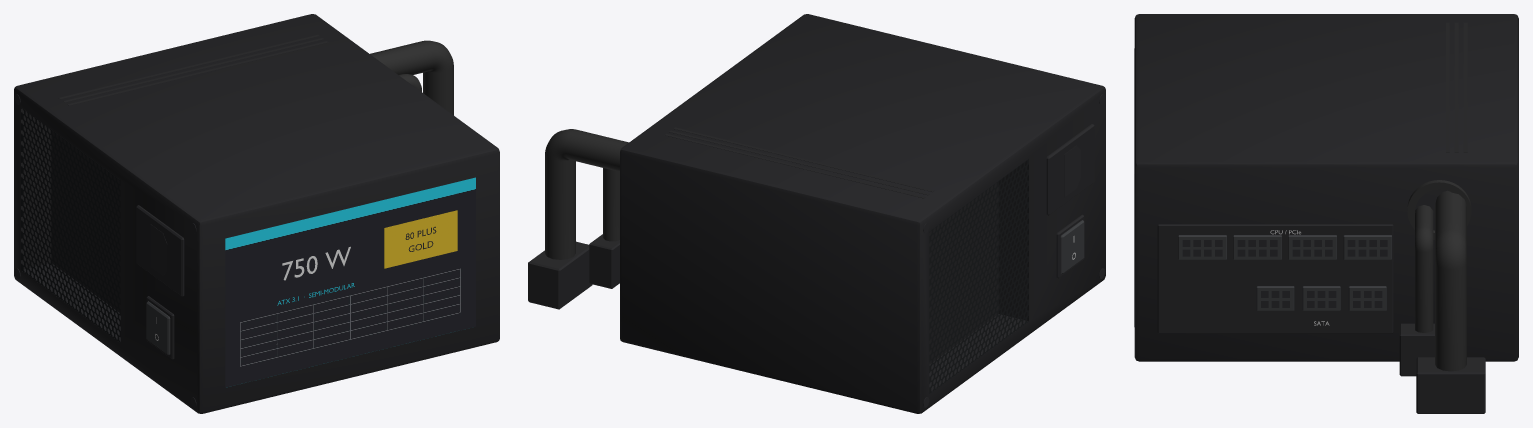
File: psu.glb
3 renders of one model, left to right at view 1: azimuth 30°, elevation 25°; view 2: azimuth 150°, elevation 25°; view 3: azimuth 270°, elevation 25°, orthographic. The views are drawn at different scales.
Parts seen in each view (by area): view 1: psu_body, psu_fixed_cables, psu_switch; view 2: psu_body, psu_fixed_cables, psu_switch; view 3: psu_body, psu_fixed_cables.
Boxes of the visible parts, <box> form: psu_body: <box>14,14,499,413</box>; psu_fixed_cables: <box>370,40,453,115</box>; psu_switch: <box>146,301,170,354</box>; psu_body: <box>620,14,1105,413</box>; psu_fixed_cables: <box>528,129,628,309</box>; psu_switch: <box>1060,220,1084,273</box>; psu_body: <box>1134,14,1518,361</box>; psu_fixed_cables: <box>1399,190,1485,413</box>.
Bounding box in the file's own units: 0.1916 × 0.0871 × 0.1502.
12 materials, 2 textured.
